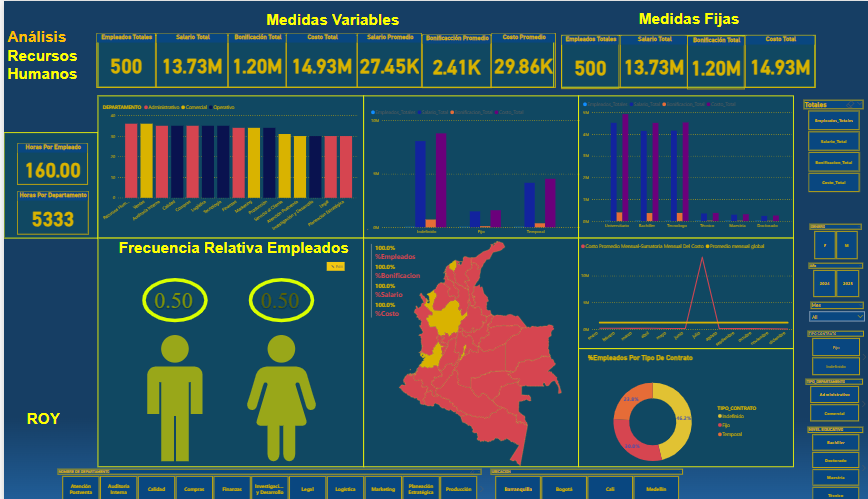

Layout of this report page (visuals, bound fields, positions):
{"tool":"powerbi","page":{"name":"Page 1","canvas":[2400,1400],"ordinal":0},"visuals":[{"type":"card","title":"Empleados  Totales","fields":{"Values":["Measures (2).Empleados_Totales"]},"box":[256,90,166,152],"z":1000},{"type":"card","title":"Salario Total","fields":{"Values":["Measures (2).Salario_Total"]},"box":[422,90,200,152],"z":2000},{"type":"card","title":"Bonificación Total","fields":{"Values":["Measures (2).Bonificacion_Total"]},"box":[622,90,162,152],"z":3000},{"type":"card","title":"Costo Total","fields":{"Values":["Measures (2).Costo_Total"]},"box":[783.3,90,198.3,151.7],"z":4000},{"type":"card","title":"Empleados Totales","fields":{"Values":["Measures (2).Empleados_Totales_Global"]},"box":[1548.3,93.3,161.7,150],"z":5000},{"type":"card","title":"Bonificación Total","fields":{"Values":["Measures (2).Bonificacion_Total_Global"]},"box":[1898.3,96.7,160,148.3],"z":6000},{"type":"card","title":"Salario Total","fields":{"Values":["Measures (2).Salario_Total_Global"]},"box":[1710,95,188.3,148.3],"z":7000},{"type":"card","title":"Costo Total","fields":{"Values":["Measures (2).Costo_Total_Global"]},"box":[2058.3,95,195,146.7],"z":8000},{"type":"slicer","fields":{"Values":["DIM_EMPLEADO.GENERO"]},"box":[2225,615,170,110],"z":9000},{"type":"slicer","fields":{"Values":["Totales.Totales"]},"box":[2208.3,268.3,191.7,268.3],"z":10000},{"type":"clusteredColumnChart","title":"Salario Total Por Nivel Educativo","fields":{"Y":["Measures (2).Costo_Total"],"Category":["DIM_EMPLEADO.NIVEL_EDUCATIVO"]},"box":[1602.5,267.5,590,375],"z":11000},{"type":"card","title":"Costo Promedio","fields":{"Values":["Measures (2).Promedio_Costo"]},"box":[1353.3,90,180,151.7],"z":12000},{"type":"card","title":"Salario Promedio","fields":{"Values":["Measures (2).Promedio_Salario"]},"box":[981.7,90,180,151.7],"z":13000},{"type":"card","title":"Bonificacción Promedio","fields":{"Values":["Measures (2).Promedio_Bonificacion"]},"box":[1162,92,192,150],"z":14000},{"type":"clusteredColumnChart","title":"Salario Total Por Tipo De Contrato","fields":{"Y":["Measures (2).Costo_Total"],"Category":["DIM_EMPLEADO.TIPO_CONTRATO"]},"box":[1013.3,290,590,370],"z":15000},{"type":"columnChart","title":"Salario Total Por Nombre De Departamento","fields":{"Y":["Measures (2).Costo_Total"],"Category":["DIM_DEPARTAMENTO.NOMBRE_DEPARTAMENTO"],"Series":["DIM_DEPARTAMENTO.TIPO_DEPARTAMENTO"]},"box":[270,274,720,376],"z":16000},{"type":"shapeMap","fields":{"Category":["DIM_DEPARTAMENTO.UBICACION"]},"box":[926.7,583.3,690,750],"z":17000},{"type":"multiRowCard","fields":{"Values":["Measures (2).%Empleados","Measures (2).%Bonificacion","Measures (2).%Salario","Measures (2).%Costo"]},"box":[1015,670,170,240],"z":18000},{"type":"lineChart","fields":{"Category":["DIM_EMPLEADO.Mes"],"Y":["Measures (2).Costo Promedio Mensual","Measures (2).Promedio mensual global"]},"box":[1596.7,660,603.3,320],"z":19000},{"type":"slicer","fields":{"Values":["DIM_EMPLEADO.Año"]},"box":[2221.7,723.3,176.7,106.7],"z":20000},{"type":"slicer","fields":{"Values":["DIM_EMPLEADO.TIPO_CONTRATO"]},"box":[2218.3,911.7,181.7,135],"z":21000},{"type":"slicer","fields":{"Values":["DIM_DEPARTAMENTO.TIPO_DEPARTAMENTO"]},"box":[2215,1045,185,130],"z":22000},{"type":"slicer","fields":{"Values":["DIM_DEPARTAMENTO.UBICACION"]},"box":[1337.5,1295,560,105],"z":23000},{"type":"slicer","fields":{"Values":["DIM_EMPLEADO.NIVEL_EDUCATIVO"]},"box":[2220,1176.7,180,223.3],"z":24000},{"type":"slicer","fields":{"Values":["DIM_DEPARTAMENTO.NOMBRE_DEPARTAMENTO"]},"box":[135,1295,1202.5,105],"z":25000},{"type":"pureVizInfographicC9801BF222134D2D83FA9C41861F3482","fields":{"category":["DIM_EMPLEADO.GENERO"],"dataset":["Measures (2).%Costo"]},"box":[293.3,720,656.7,613.3],"z":26000},{"type":"donutChart","title":"%Empleados Por Tipo De Contrato","fields":{"Y":["Measures (2).%Empleados"],"Category":["DIM_EMPLEADO.TIPO_CONTRATO"]},"box":[1616.1,980.6,493.5,354.8],"z":27000},{"type":"slicer","fields":{"Values":["DIM_EMPLEADO.Mes"]},"box":[2226.7,830,173.3,80],"z":28000},{"type":"card","title":"Horas Por Empleado","fields":{"Values":["Measures (2).Productividad Por Empleado"]},"box":[37.1,394.3,197.1,115.7],"z":29000},{"type":"card","title":"Horas Por Departamento","fields":{"Values":["Measures (2).Horas Por Departamento"]},"box":[35.7,527.1,198.6,121.4],"z":30000}]}

Visuals, with their boxes in screenshot pixels (x1, y1, x2, y2), scaled from the page's 2400x1400 canvas onto the 868x499 screenshot:
"Empleados  Totales" card: <box>93,32,153,86</box>
"Salario Total" card: <box>153,32,225,86</box>
"Bonificación Total" card: <box>225,32,284,86</box>
"Costo Total" card: <box>283,32,355,86</box>
"Empleados Totales" card: <box>560,33,618,87</box>
"Bonificación Total" card: <box>687,34,744,87</box>
"Salario Total" card: <box>618,34,687,87</box>
"Costo Total" card: <box>744,34,815,86</box>
slicer - DIM_EMPLEADO.GENERO: <box>805,219,866,258</box>
slicer - Totales.Totales: <box>799,96,867,191</box>
"Salario Total Por Nivel Educativo" clusteredColumnChart: <box>580,95,793,229</box>
"Costo Promedio" card: <box>489,32,555,86</box>
"Salario Promedio" card: <box>355,32,420,86</box>
"Bonificacción Promedio" card: <box>420,33,490,86</box>
"Salario Total Por Tipo De Contrato" clusteredColumnChart: <box>366,103,580,235</box>
"Salario Total Por Nombre De Departamento" columnChart: <box>98,98,358,232</box>
shapeMap - DIM_DEPARTAMENTO.UBICACION: <box>335,208,585,475</box>
multiRowCard - Measures (2).%Empleados x Measures (2).%Bonificacion: <box>367,239,429,324</box>
lineChart - DIM_EMPLEADO.Mes x Measures (2).Costo Promedio Mensual: <box>577,235,796,349</box>
slicer - DIM_EMPLEADO.Año: <box>804,258,867,296</box>
slicer - DIM_EMPLEADO.TIPO_CONTRATO: <box>802,325,867,373</box>
slicer - DIM_DEPARTAMENTO.TIPO_DEPARTAMENTO: <box>801,372,867,419</box>
slicer - DIM_DEPARTAMENTO.UBICACION: <box>484,462,686,498</box>
slicer - DIM_EMPLEADO.NIVEL_EDUCATIVO: <box>803,419,867,498</box>
slicer - DIM_DEPARTAMENTO.NOMBRE_DEPARTAMENTO: <box>49,462,484,498</box>
pureVizInfographicC9801BF222134D2D83FA9C41861F3482 - DIM_EMPLEADO.GENERO x Measures (2).%Costo: <box>106,257,344,475</box>
"%Empleados Por Tipo De Contrato" donutChart: <box>584,350,763,476</box>
slicer - DIM_EMPLEADO.Mes: <box>805,296,867,324</box>
"Horas Por Empleado" card: <box>13,141,85,182</box>
"Horas Por Departamento" card: <box>13,188,85,231</box>
